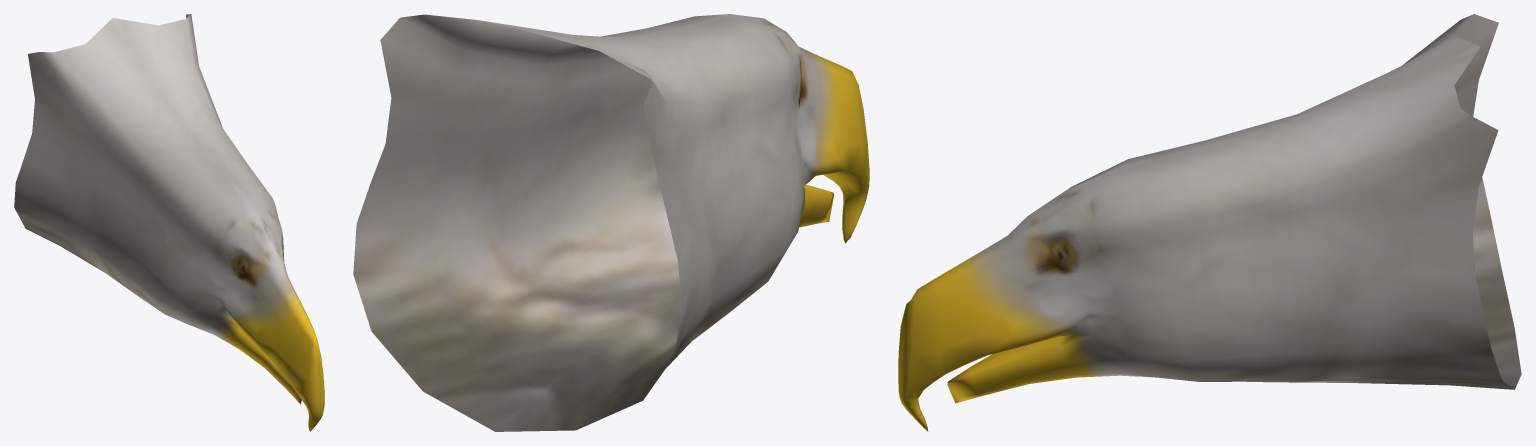
Rendered from head.obj.
The picture shows the model from 3 angles, left to right: view 1: azimuth 30°, elevation 25°; view 2: azimuth 150°, elevation 25°; view 3: azimuth 270°, elevation 25°; orthographic projection. The views are drawn at different scales.
Parts seen in each view (by area): view 1: head_Plane.000; view 2: head_Plane.000; view 3: head_Plane.000.
Part boxes in pixels (left/top/right/bottom): head_Plane.000: left=14, top=14, right=324, bottom=431; head_Plane.000: left=353, top=14, right=869, bottom=431; head_Plane.000: left=898, top=14, right=1521, bottom=431.
Size of the model in its own units: 0.7121 by 0.9474 by 1.39.
